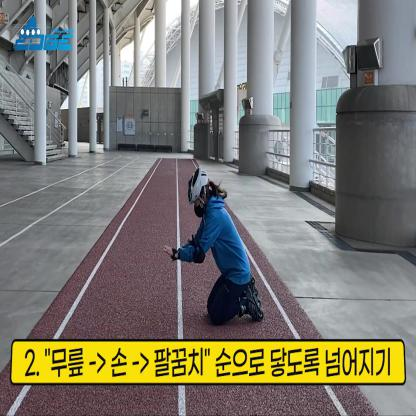Fall_Down: (160, 173, 262, 324)
